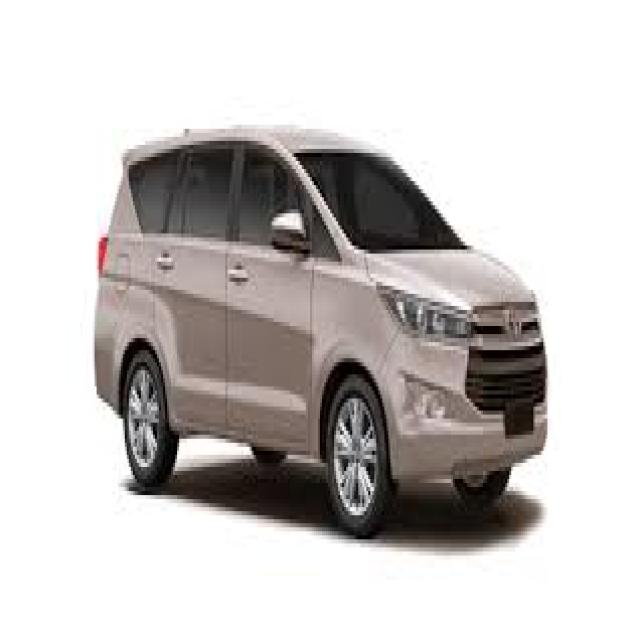light_vehicle: (95, 125, 550, 539)
